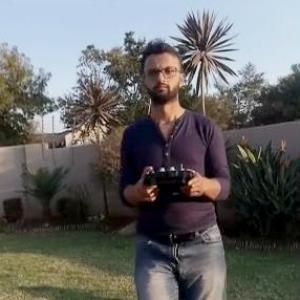follow: (115, 39, 235, 299)
